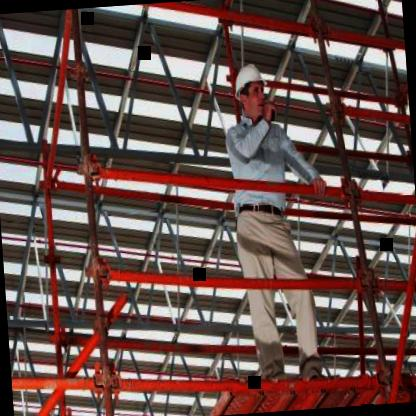helmet: (231, 58, 273, 122)
